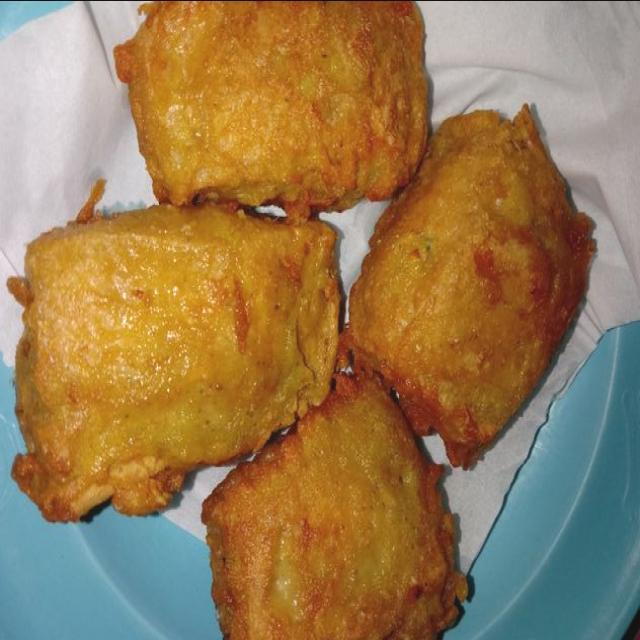tahu goreng: (7, 200, 343, 523), (340, 100, 595, 470), (199, 359, 473, 640), (111, 0, 431, 217)
